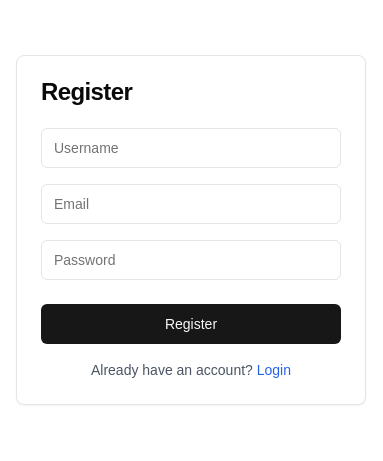
Test: RegisterPage › validates username length
The image size is (383, 461).
Type "ab" into the field with placeholder "Username". click: {"x": 191, "y": 148}
box: [41,128,341,168]
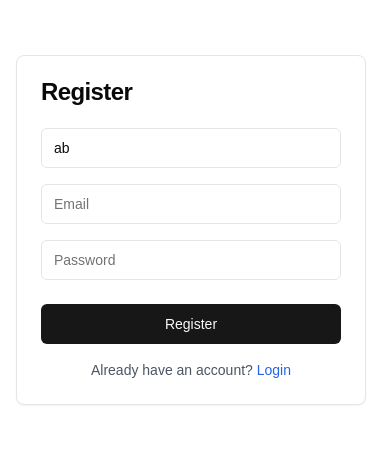
Click the button "Register". click: {"x": 191, "y": 324}
box: [41,304,341,344]
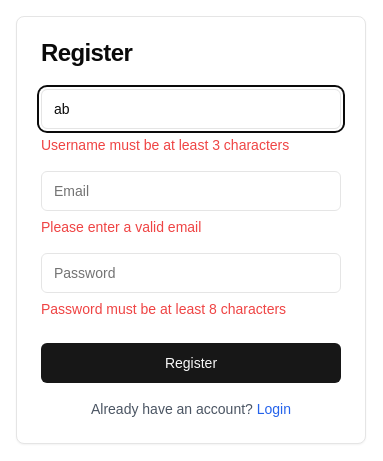
Check: the text "Username must be at least 3 characters" is shown, box [41,137,289,153]
